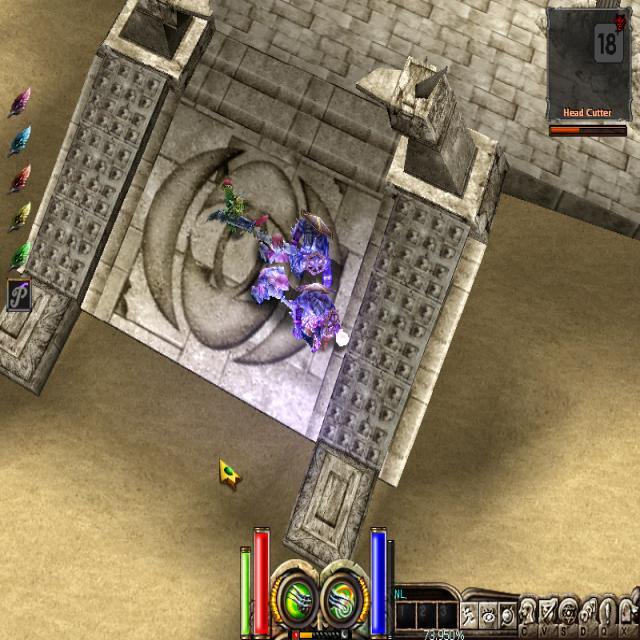monster: (296, 288, 342, 351), (249, 262, 293, 316), (298, 235, 332, 285), (254, 234, 291, 264), (336, 329, 356, 358)
